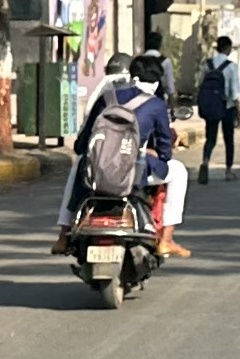BikeWithRider: (44, 45, 198, 313)
NoHelmet: (123, 51, 168, 97), (99, 48, 137, 84)
